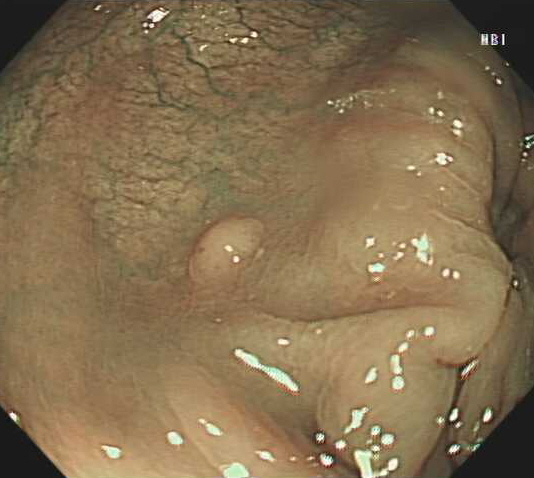adenoma: (184, 214, 266, 285)
